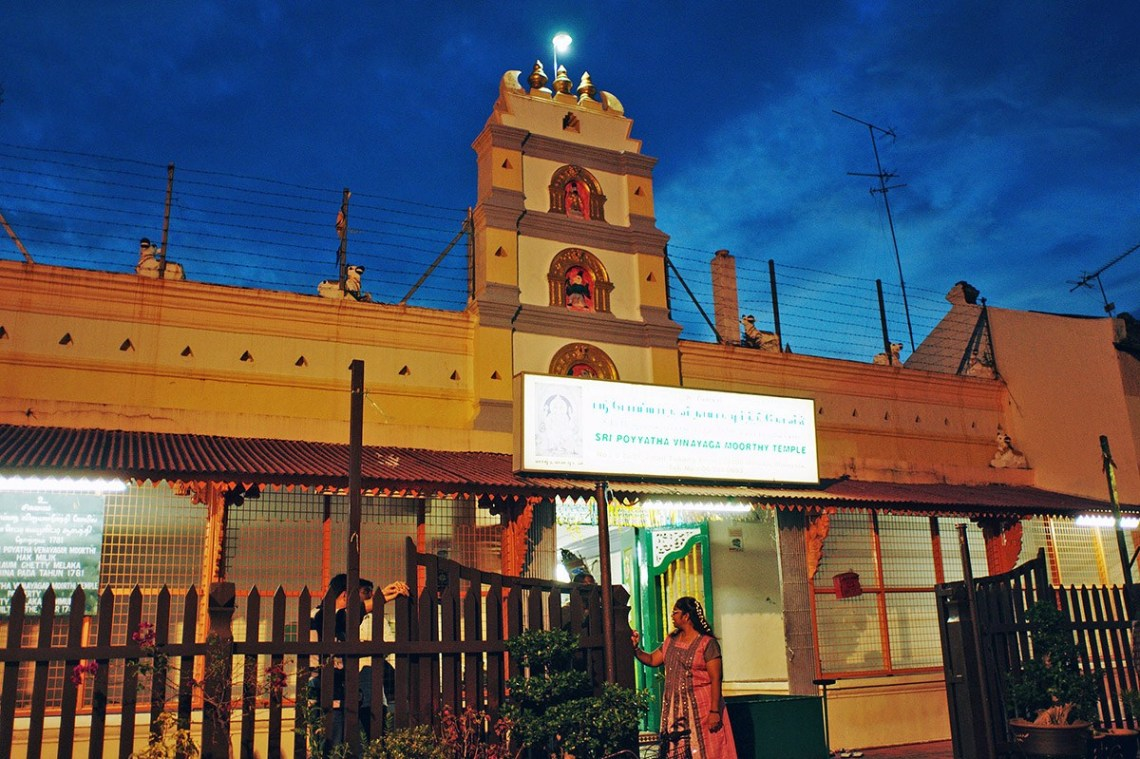Hindu Temple: (440, 68, 680, 461)
